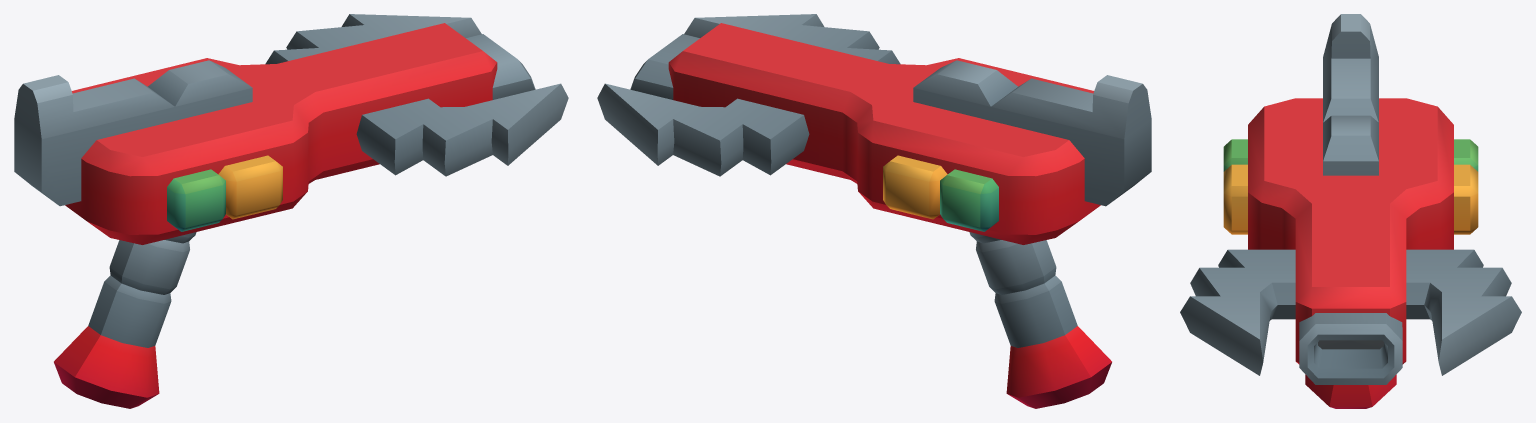
Rendered from UltraTurboHeroMan_Blaster_KFB.glb.
3 renders of one model, left to right at view 1: azimuth 30°, elevation 25°; view 2: azimuth 150°, elevation 25°; view 3: azimuth 270°, elevation 25°, orthographic.
Parts seen in each view (by area): view 1: UltraTurboHeroMan_Blaster; view 2: UltraTurboHeroMan_Blaster; view 3: UltraTurboHeroMan_Blaster.
Boxes of the visible parts, <box> form: UltraTurboHeroMan_Blaster: <box>14,14,568,408</box>; UltraTurboHeroMan_Blaster: <box>597,14,1151,408</box>; UltraTurboHeroMan_Blaster: <box>1180,14,1521,408</box>.
Size of the model in its own units: 1.01 by 0.6542 by 0.5897.
1 material, 1 textured.
